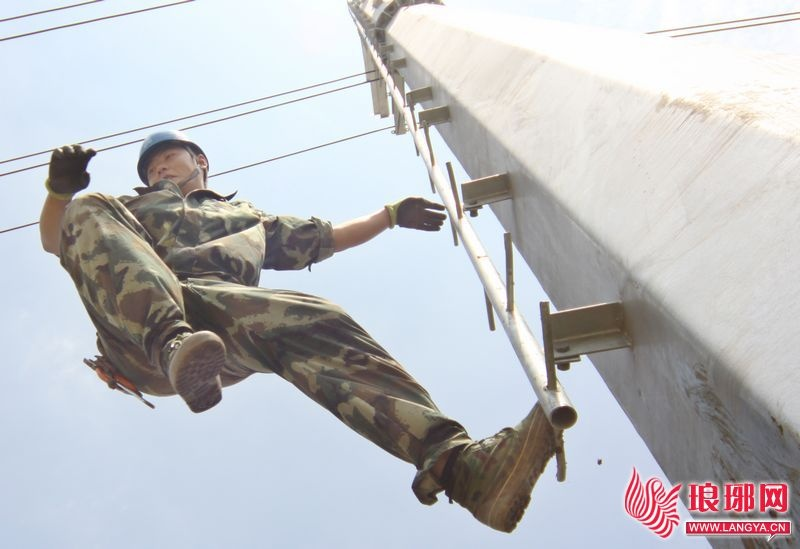blue: (134, 130, 212, 192)
